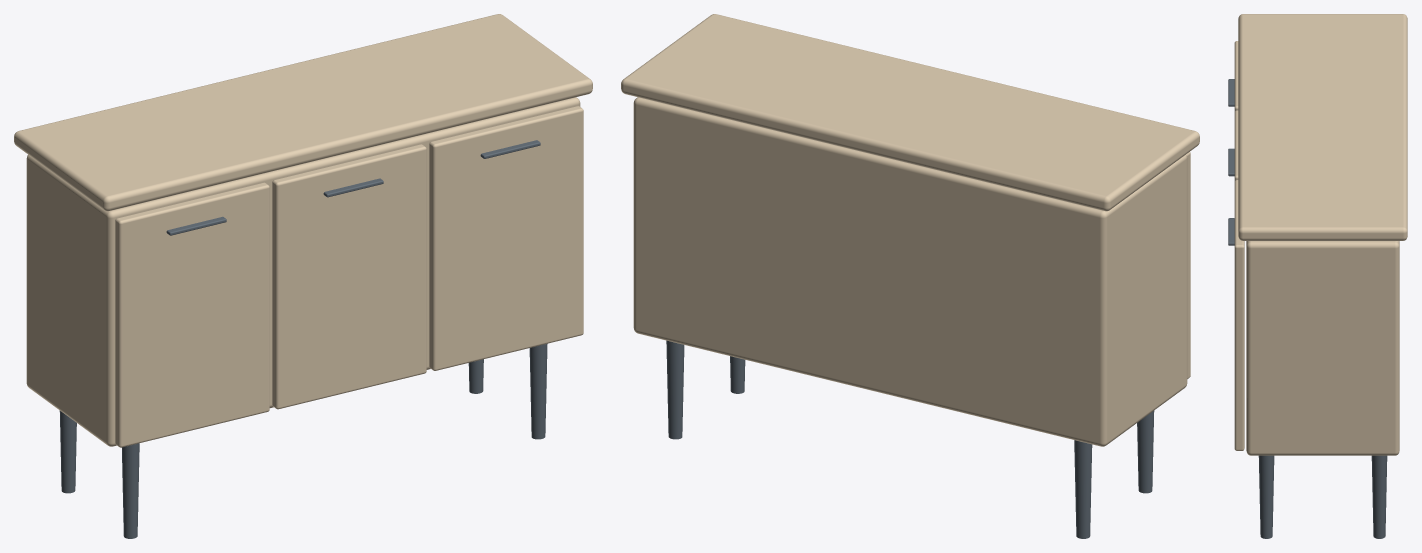
File: sideboard.glb
The picture shows the model from 3 angles, left to right: view 1: azimuth 30°, elevation 25°; view 2: azimuth 150°, elevation 25°; view 3: azimuth 270°, elevation 25°; orthographic projection. The views are drawn at different scales.
Visible parts, largest first — view 1: sideboard; view 2: sideboard; view 3: sideboard.
Boxes of the visible parts, box(x1,y1,x2,y2) form: sideboard: box(14, 14, 592, 538); sideboard: box(621, 14, 1199, 538); sideboard: box(1228, 14, 1407, 538).
Bounding box in the file's own units: 1.2 × 0.84 × 0.42.
